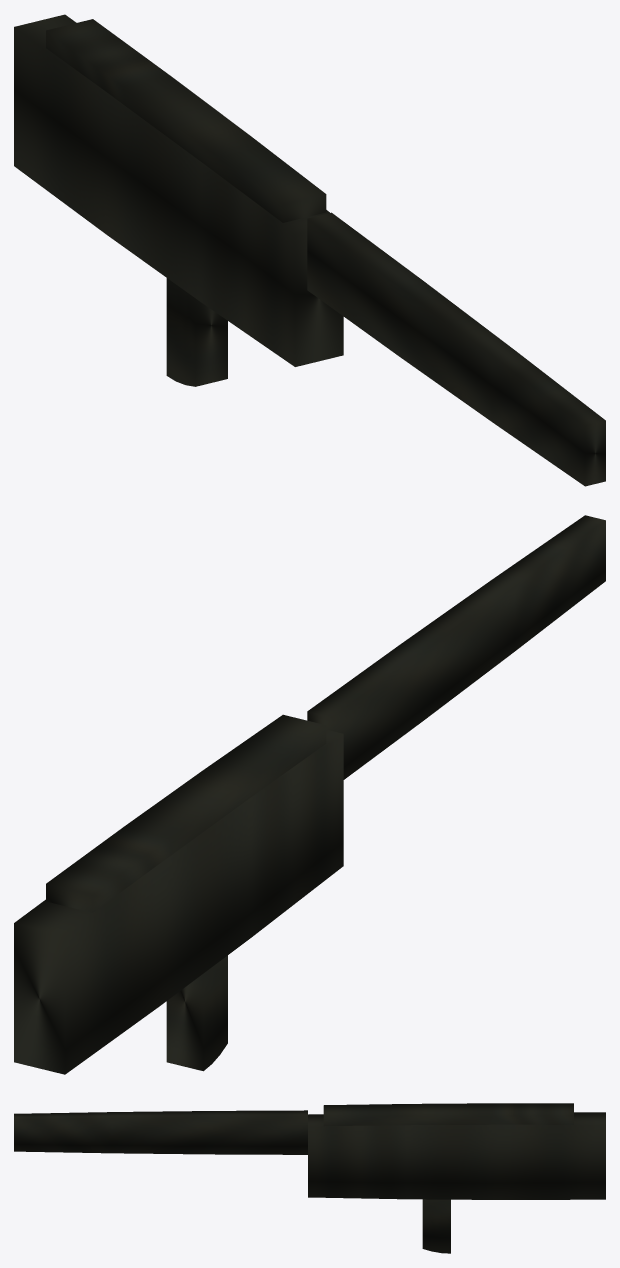
File: wpn_m82_barrett.glb
3 views of the same model, one above another, from view 1: azimuth 30°, elevation 25°; view 2: azimuth 150°, elevation 25°; view 3: azimuth 270°, elevation 25° (orthographic). The views are drawn at different scales.
Parts seen in each view (by area): view 1: SubMesh_0_Receiver, SubMesh_3_BarrelSight, SubMesh_1_Action, SubMesh_2_Magazine; view 2: SubMesh_0_Receiver, SubMesh_3_BarrelSight, SubMesh_1_Action, SubMesh_2_Magazine; view 3: SubMesh_0_Receiver, SubMesh_3_BarrelSight, SubMesh_1_Action, SubMesh_2_Magazine.
Boxes of the visible parts, x1,y1,x2,y2 form: SubMesh_0_Receiver: (14,14,343,366); SubMesh_3_BarrelSight: (307,212,605,486); SubMesh_1_Action: (46,19,326,222); SubMesh_2_Magazine: (166,278,227,386); SubMesh_0_Receiver: (14,729,343,1074); SubMesh_3_BarrelSight: (307,515,605,779); SubMesh_1_Action: (46,714,326,912); SubMesh_2_Magazine: (166,955,227,1071); SubMesh_0_Receiver: (308,1112,605,1199); SubMesh_3_BarrelSight: (14,1110,307,1154); SubMesh_1_Action: (323,1103,573,1126); SubMesh_2_Magazine: (422,1199,450,1253).
Bounding box in the file's own units: 0.0787 × 0.3821 × 1.47.
1 material, 1 textured.
